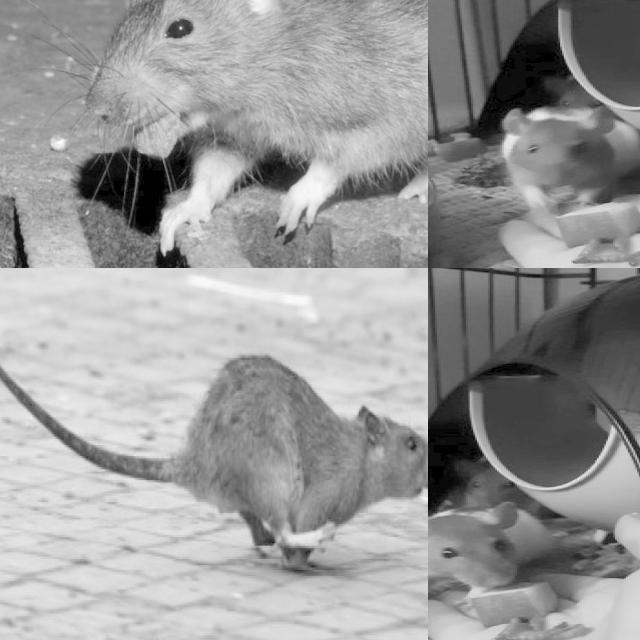rat: (64, 0, 428, 255), (182, 354, 428, 544), (428, 504, 557, 630), (500, 105, 640, 208)
